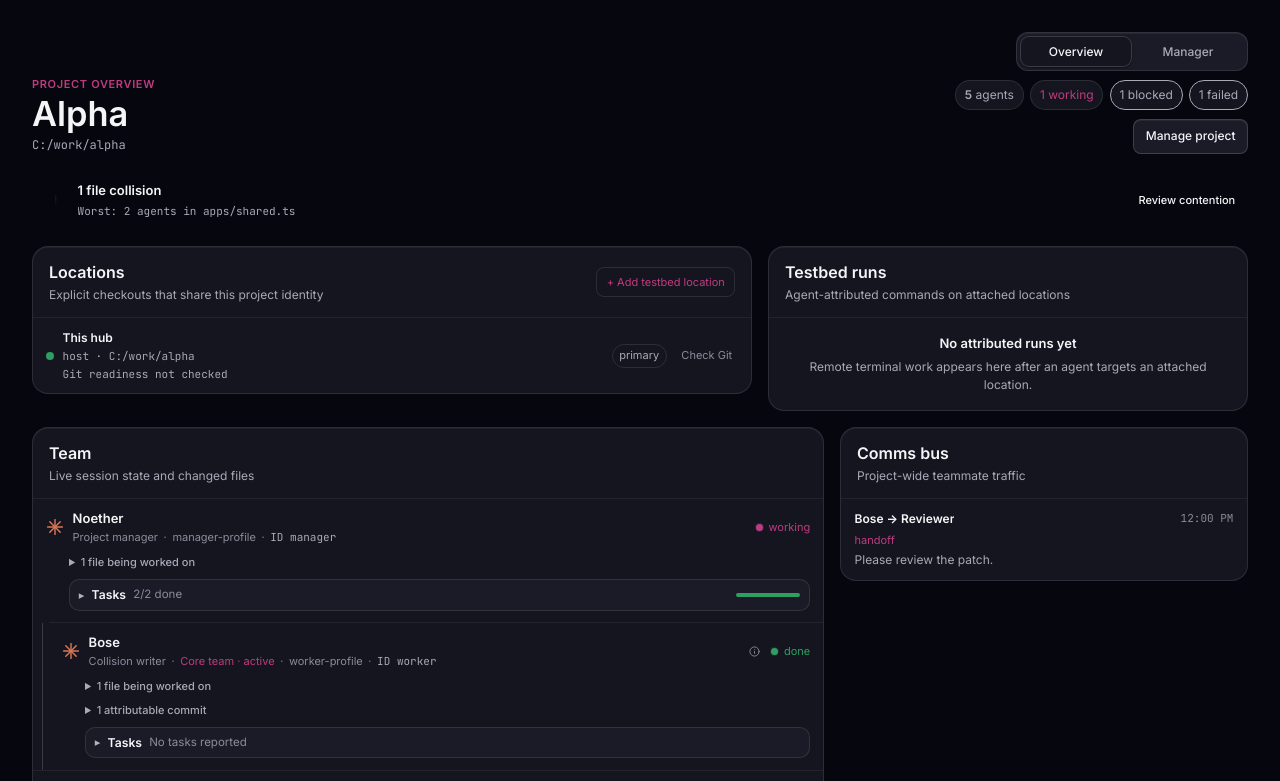
Test case: ProjectView › shows lifecycle status, manager grouping, files, taskboards, collisions, and project bus traffic
The width and height of the screenshot is (1280, 781).
Expected: the heading "Alpha" is shown, top-left (32, 93), bottom-right (128, 134)
Expected: the text "working" is shown, top-left (756, 519), bottom-right (810, 535)
Click the heading "1 attributable commit". click: x=146, y=710
box: top-left (85, 702), bottom-right (206, 718)
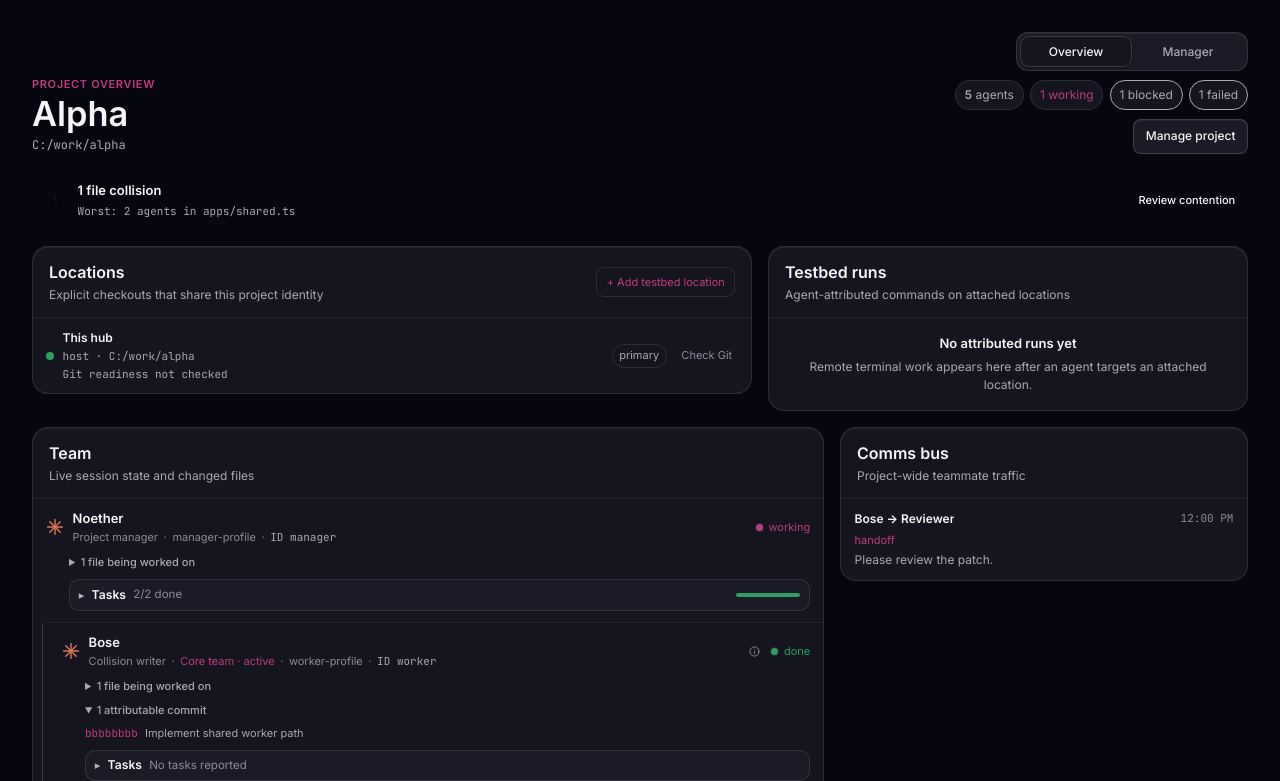
Expected: the text "1 file collision" is shown, top-left (78, 182), bottom-right (161, 198)
Now the text "Implement shared worker path" is shown, box top-left (145, 726), bottom-right (304, 740)
